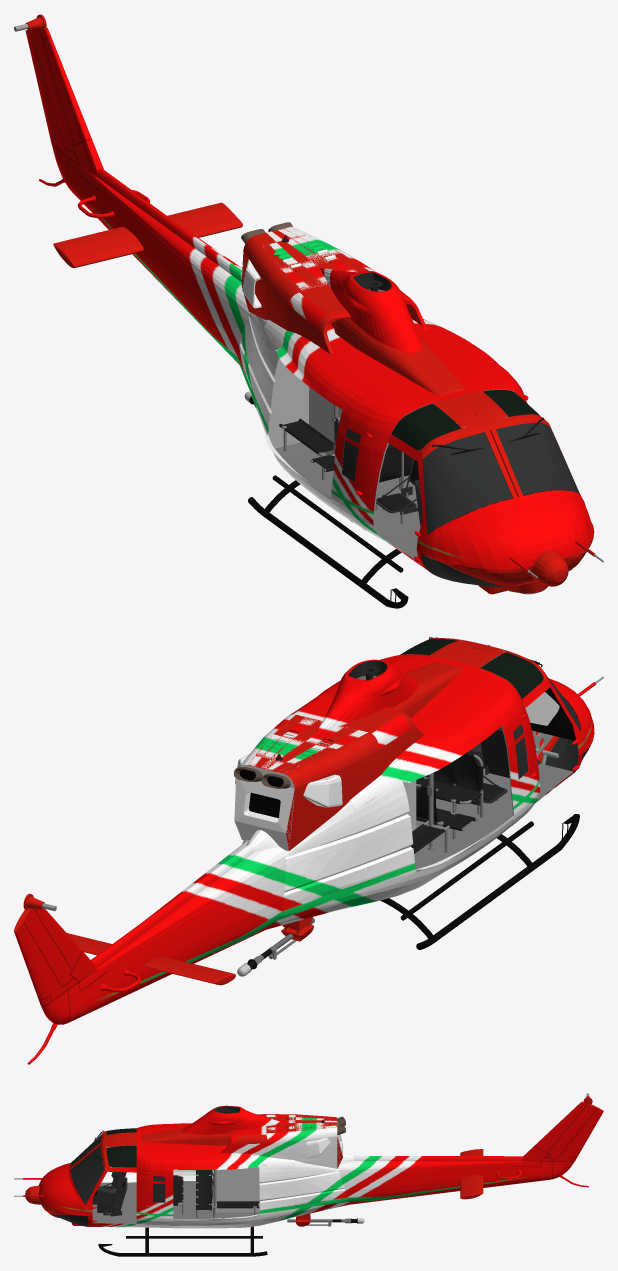
Rendered from main.obj.
The picture shows the model from 3 angles, top to bottom: view 1: azimuth 30°, elevation 25°; view 2: azimuth 150°, elevation 25°; view 3: azimuth 270°, elevation 25°; orthographic projection. The views are drawn at different scales.
Bounding box in the file's own units: 34151 × 44281 × 172775.
